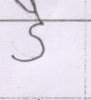ai_matra: (14, 0, 46, 19)
